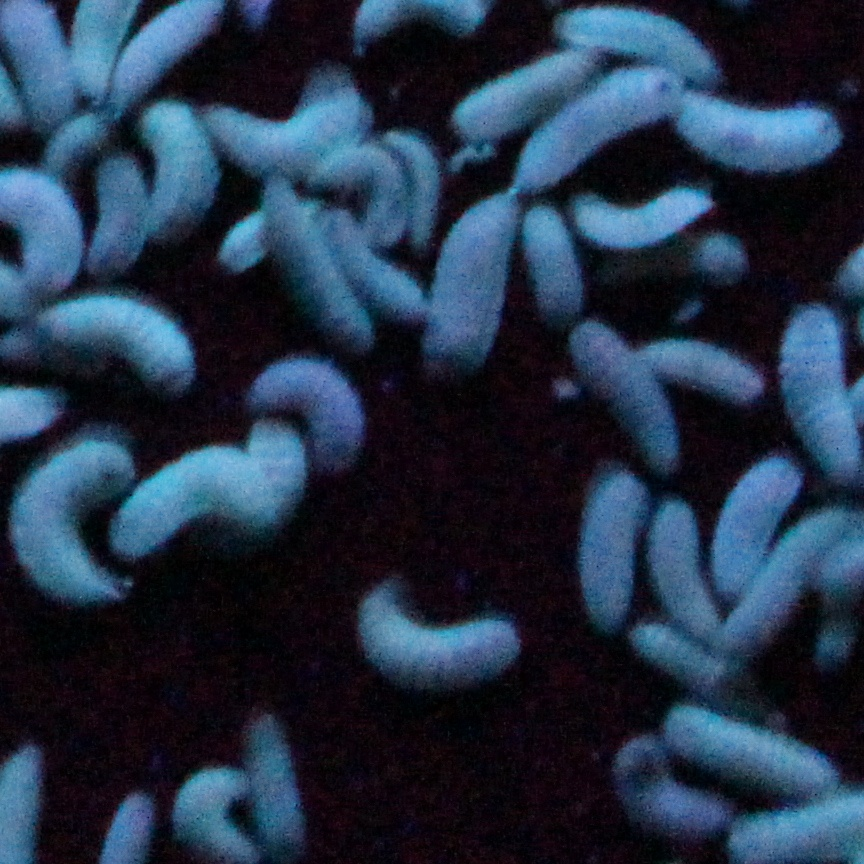larve: (18, 439, 135, 614), (348, 578, 527, 692), (416, 196, 522, 381), (526, 76, 679, 193), (130, 440, 269, 557), (268, 198, 371, 352), (564, 327, 676, 465), (554, 4, 724, 91), (670, 705, 832, 795), (673, 94, 843, 177), (45, 303, 201, 392), (449, 51, 599, 142), (567, 467, 648, 634), (255, 362, 368, 470), (136, 104, 223, 242), (219, 95, 382, 163), (716, 451, 784, 594), (1, 0, 72, 131), (637, 336, 761, 408), (634, 625, 749, 697), (318, 150, 428, 225), (521, 201, 587, 325), (241, 719, 306, 841), (570, 190, 710, 244), (89, 150, 150, 272), (657, 500, 709, 629)
